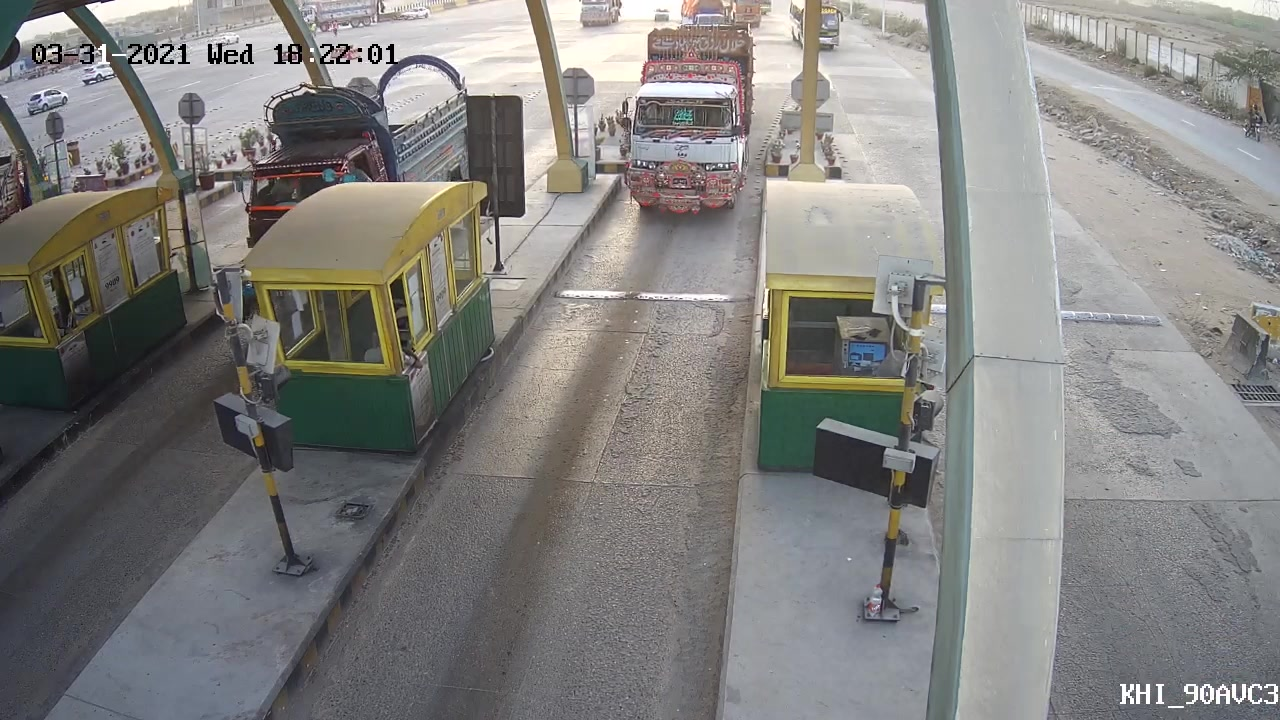F5: (617, 37, 758, 217)
